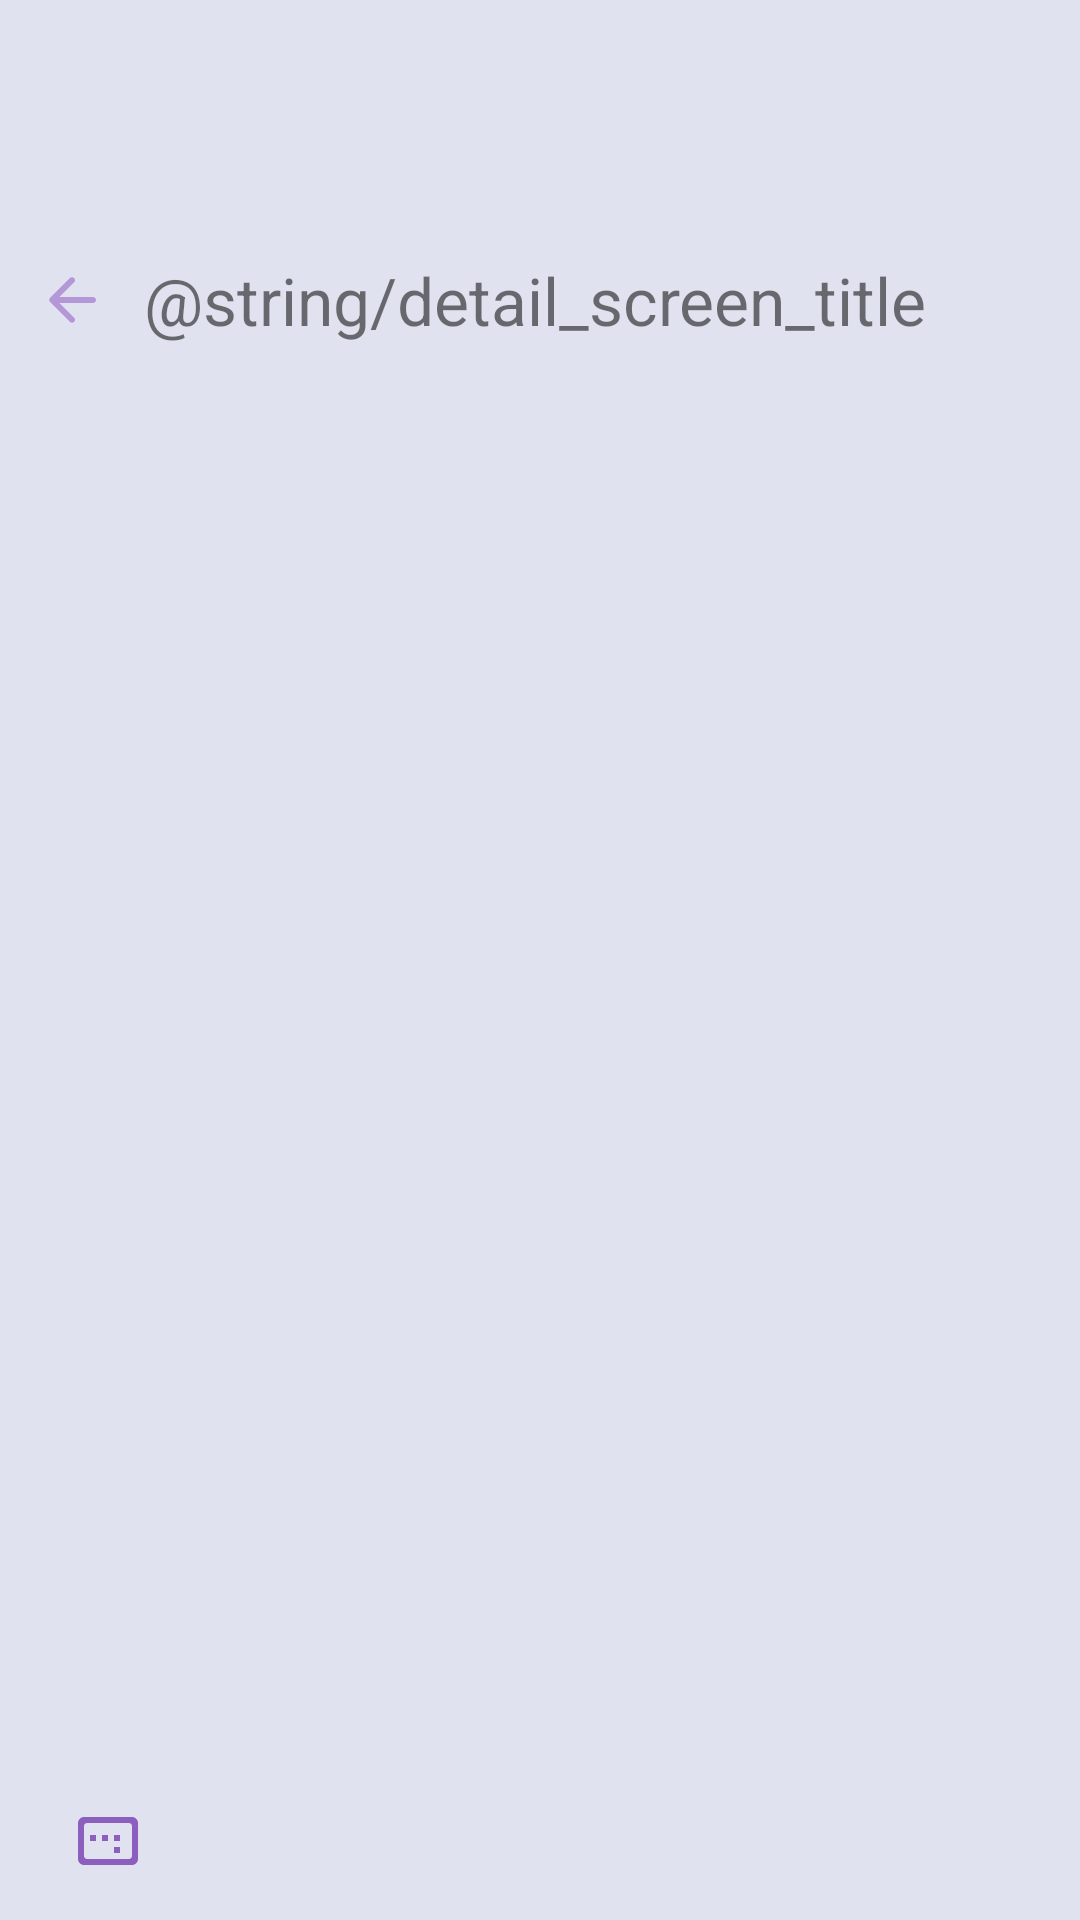

Icons on this 1080w x 1920h Android screen, each with the point to tap as (x,y):
arrow back: (72,300)
